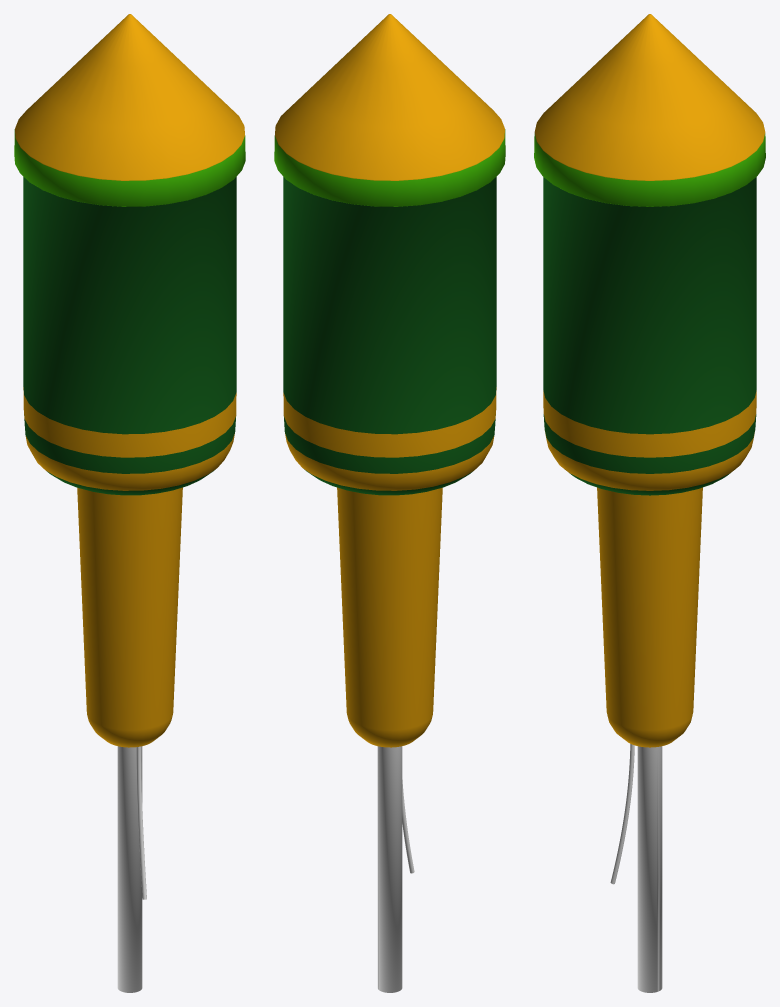
3 renders of one model, left to right at view 1: azimuth 30°, elevation 25°; view 2: azimuth 150°, elevation 25°; view 3: azimuth 270°, elevation 25°, orthographic.
Visible parts, largest first — view 1: Roket1.002; view 2: Roket1.002; view 3: Roket1.002.
Boxes of the visible parts, x1=… form: Roket1.002: x1=14, y1=14, x2=245, y2=992; Roket1.002: x1=274, y1=14, x2=505, y2=992; Roket1.002: x1=534, y1=14, x2=765, y2=992.
Bounding box in the file's own units: 204 × 943 × 204.
